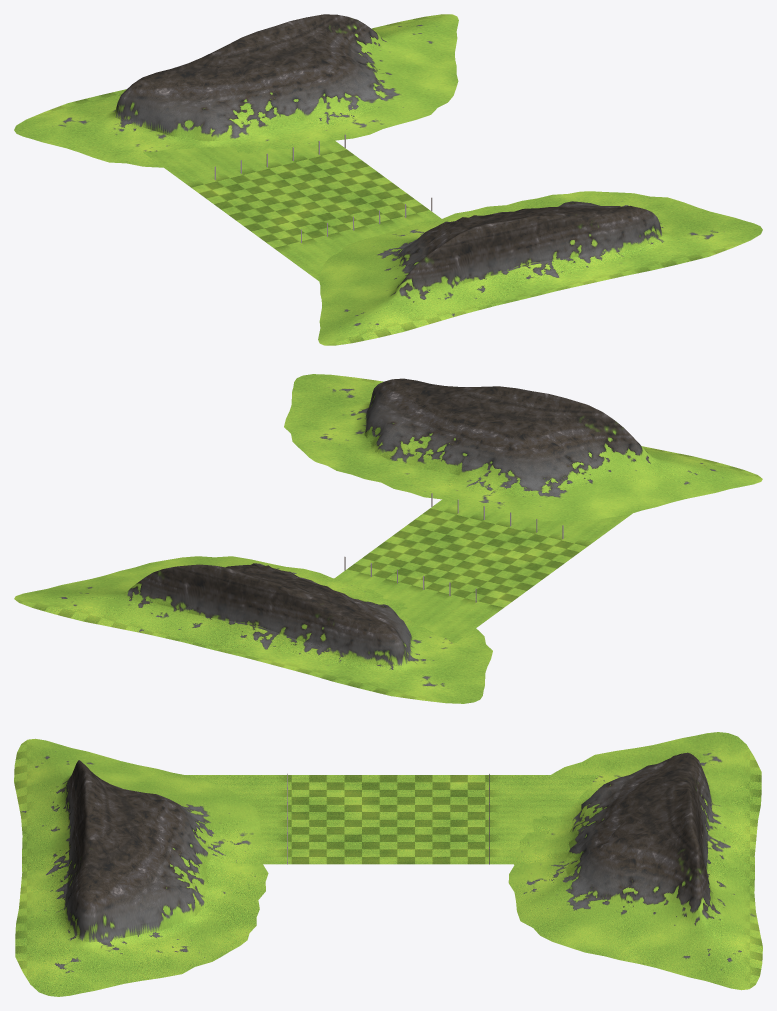
The model's file is grassworld_new.glb.
3 renders of one model, top to bottom at view 1: azimuth 30°, elevation 25°; view 2: azimuth 150°, elevation 25°; view 3: azimuth 270°, elevation 25°, orthographic. The views are drawn at different scales.
Visible parts, largest first — view 1: field_rock, tile_grass, field_grass; view 2: field_rock, tile_grass, field_grass; view 3: field_rock, tile_grass, field_grass.
Part boxes in pixels (<box>): field_rock: <box>14,14,762,345</box>; tile_grass: <box>191,149,428,247</box>; field_grass: <box>143,134,442,281</box>; field_rock: <box>14,374,762,703</box>; tile_grass: <box>347,508,586,607</box>; field_grass: <box>332,493,633,643</box>; field_rock: <box>14,732,762,996</box>; tile_grass: <box>291,775,485,864</box>; field_grass: <box>184,773,599,864</box>.
Size of the model in its own units: 71.2 by 8.4 by 84.99.
5 materials, 4 textured.
